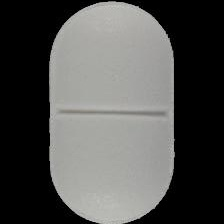50111-459: (0, 0, 224, 224)
